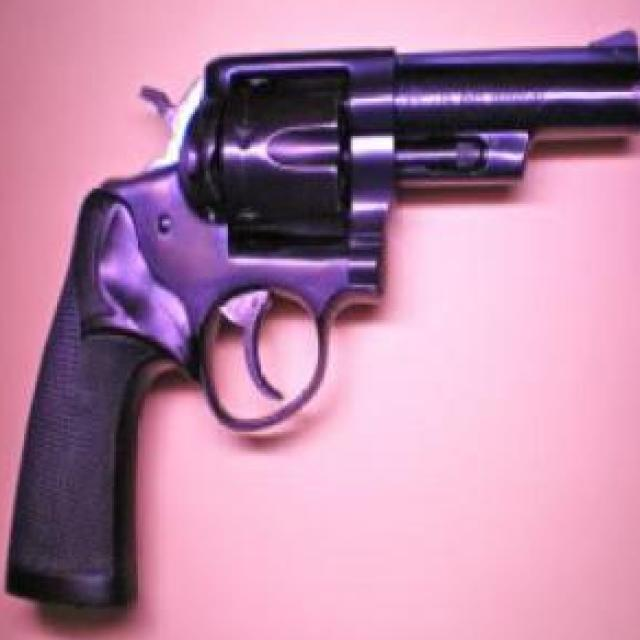pistol: (4, 26, 640, 603)
